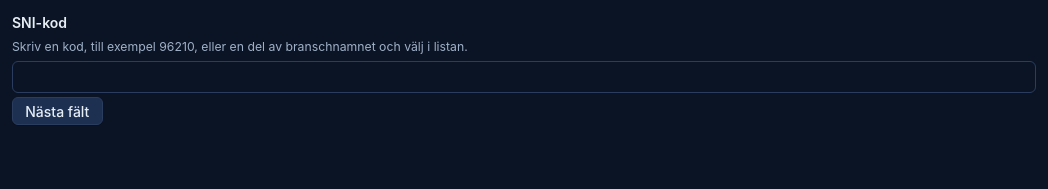
SniPicker › filters by part of the name and picks an option with a click
In the dropdown: (524, 77) x1=12 y1=61 x2=1036 y2=93, type "vård"
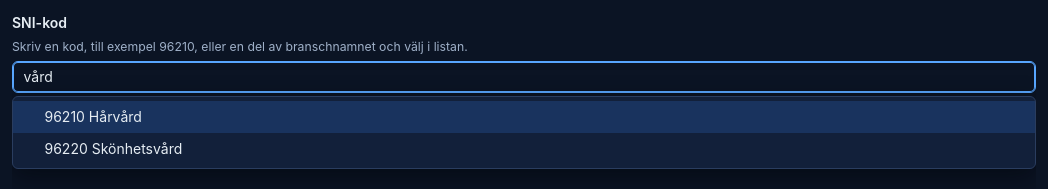
Click the option "96220 Skönhetsvård": click(113, 149) x1=44 y1=140 x2=182 y2=157
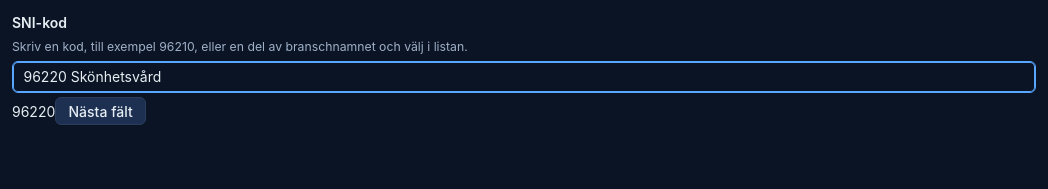
expect the dropdown holds "96220 Skönhetsvård": met, box x1=12 y1=61 x2=1036 y2=93
expect the list is gone: met
